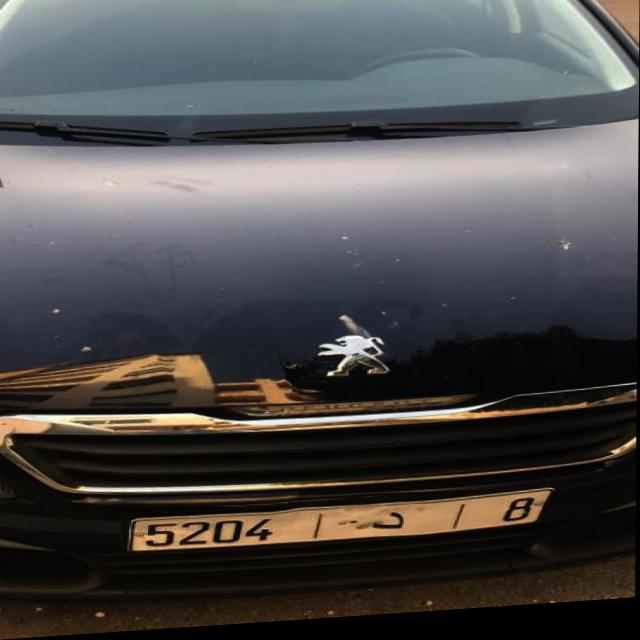License-Plate: (130, 498, 555, 554)
